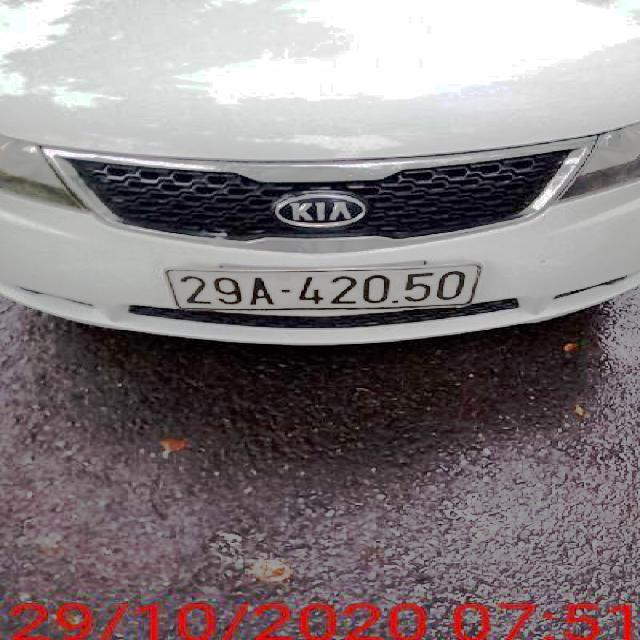license_plate: (165, 265, 482, 313)
